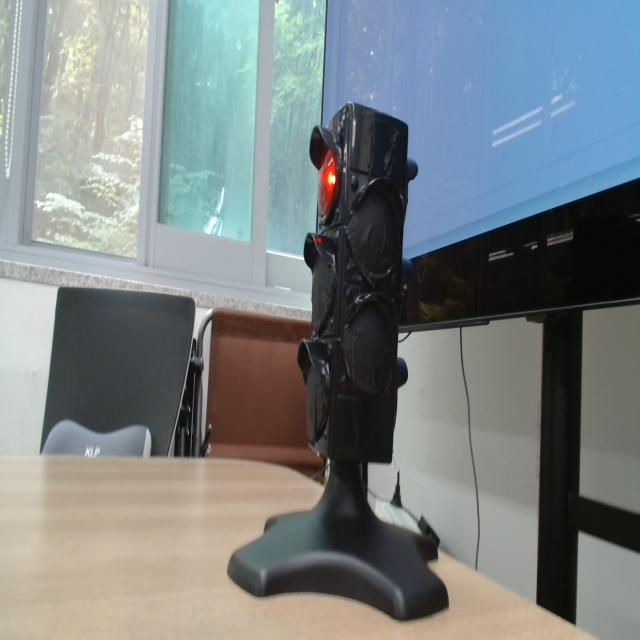red_light: (318, 150, 339, 222)
